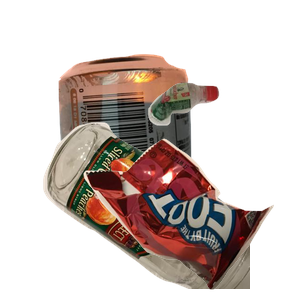glass: (41, 120, 281, 300)
metal: (56, 52, 242, 232)
plastic: (146, 80, 300, 198)
trash: (81, 136, 300, 300)
